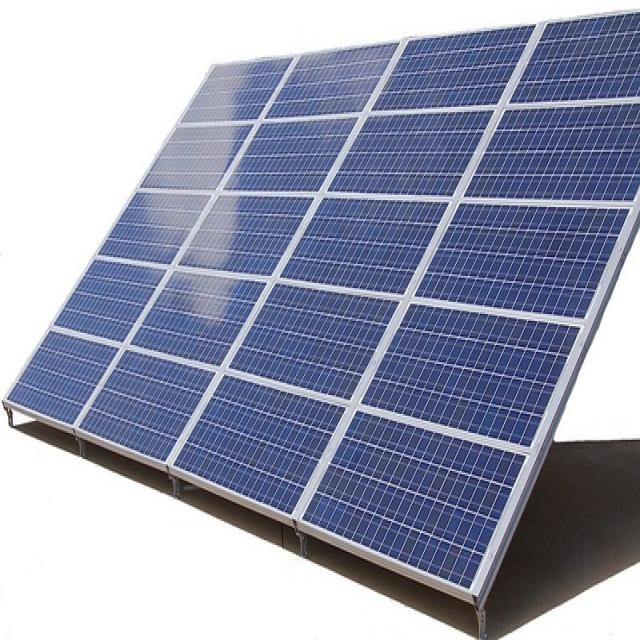no faulty: (5, 9, 640, 590)
